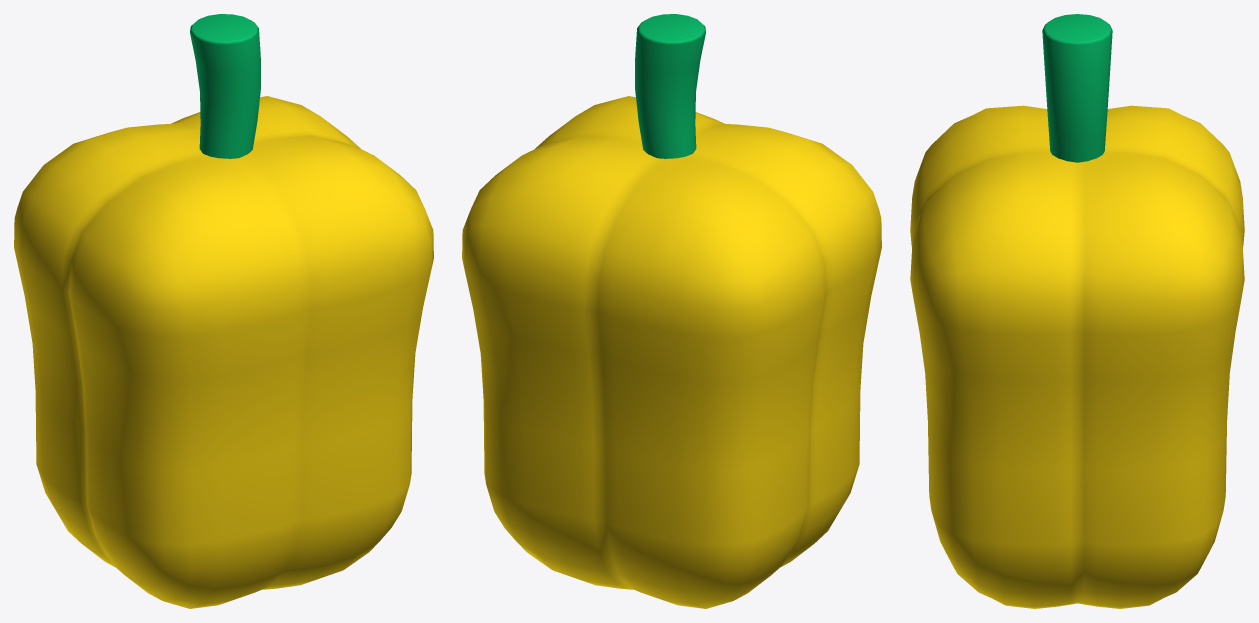
Rendered from pepper.glb.
3 renders of one model, left to right at view 1: azimuth 30°, elevation 25°; view 2: azimuth 150°, elevation 25°; view 3: azimuth 270°, elevation 25°, orthographic.
Visible parts, largest first — view 1: Bell_Pepper_Yellow; view 2: Bell_Pepper_Yellow; view 3: Bell_Pepper_Yellow.
Part boxes in pixels (x1,y1,x2,y2): Bell_Pepper_Yellow: (14,14,433,608); Bell_Pepper_Yellow: (462,14,881,608); Bell_Pepper_Yellow: (910,14,1244,608).
Bounding box in the file's own units: 0.1191 × 0.1913 × 0.1051.
Materials: 1 (1 with a texture image).
